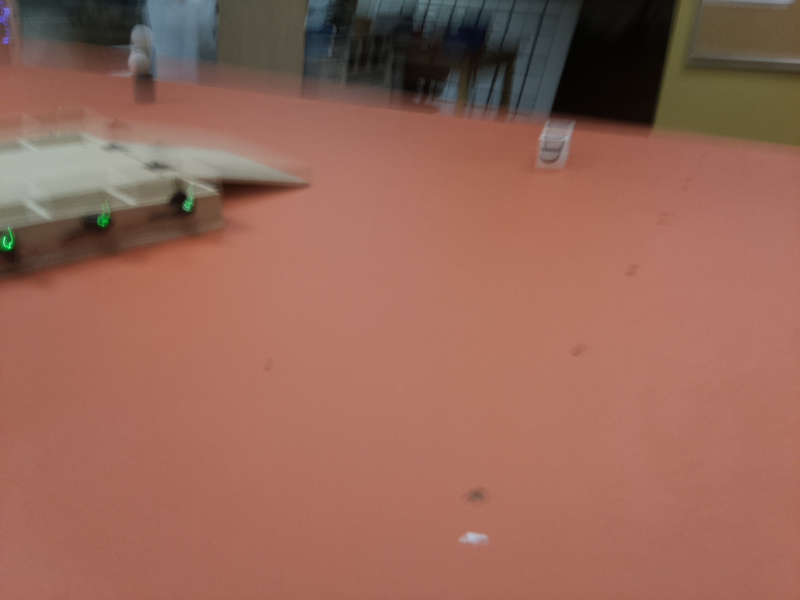blockD: (535, 122, 581, 173)
corner: (1, 4, 24, 69)
obstacle: (129, 26, 153, 107)
side: (1, 179, 228, 264)
slope: (117, 136, 312, 192)
